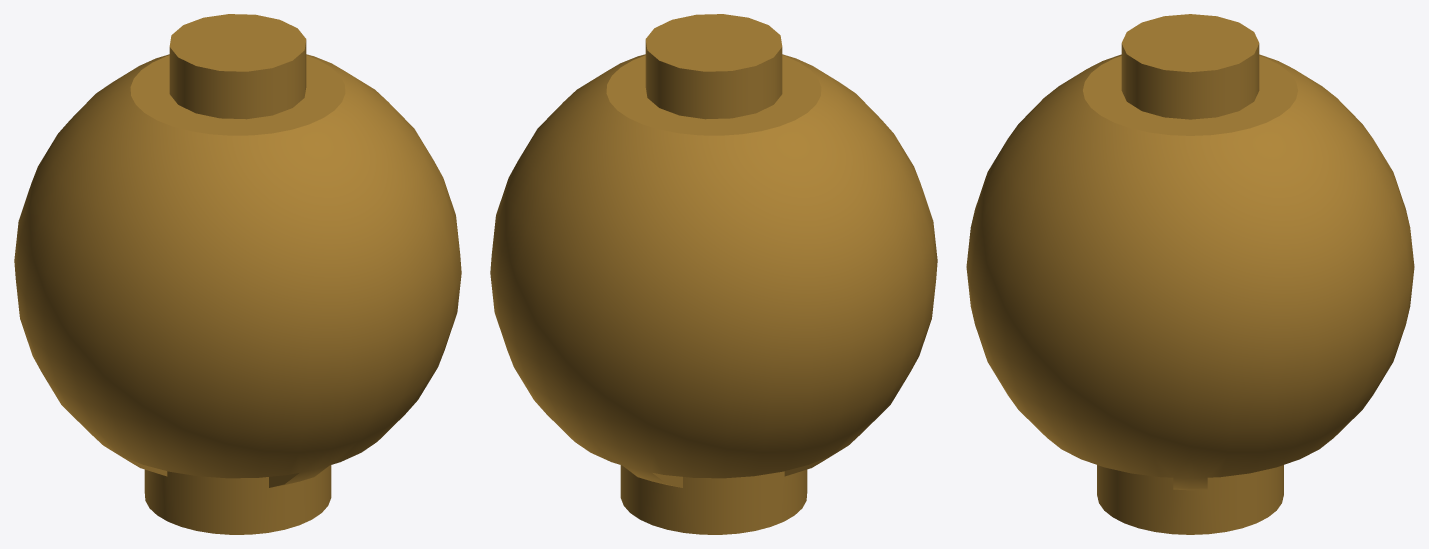
File: BFG Bullet.dae
3 renders of one model, left to right at view 1: azimuth 30°, elevation 25°; view 2: azimuth 150°, elevation 25°; view 3: azimuth 270°, elevation 25°, orthographic.
Parts seen in each view (by area): view 1: Part.0; view 2: Part.0; view 3: Part.0.
Boxes of the visible parts, x1,y1,x2,y2 form: Part.0: [14, 14, 461, 534]; Part.0: [490, 14, 937, 534]; Part.0: [966, 14, 1414, 534].
Bounding box in the file's own units: 15.6 × 17.38 × 15.6.
